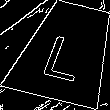L_N: (38, 24, 94, 81)
